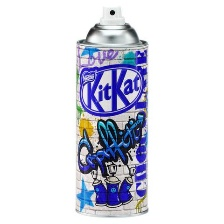aerosol_cans: (68, 3, 153, 221)
